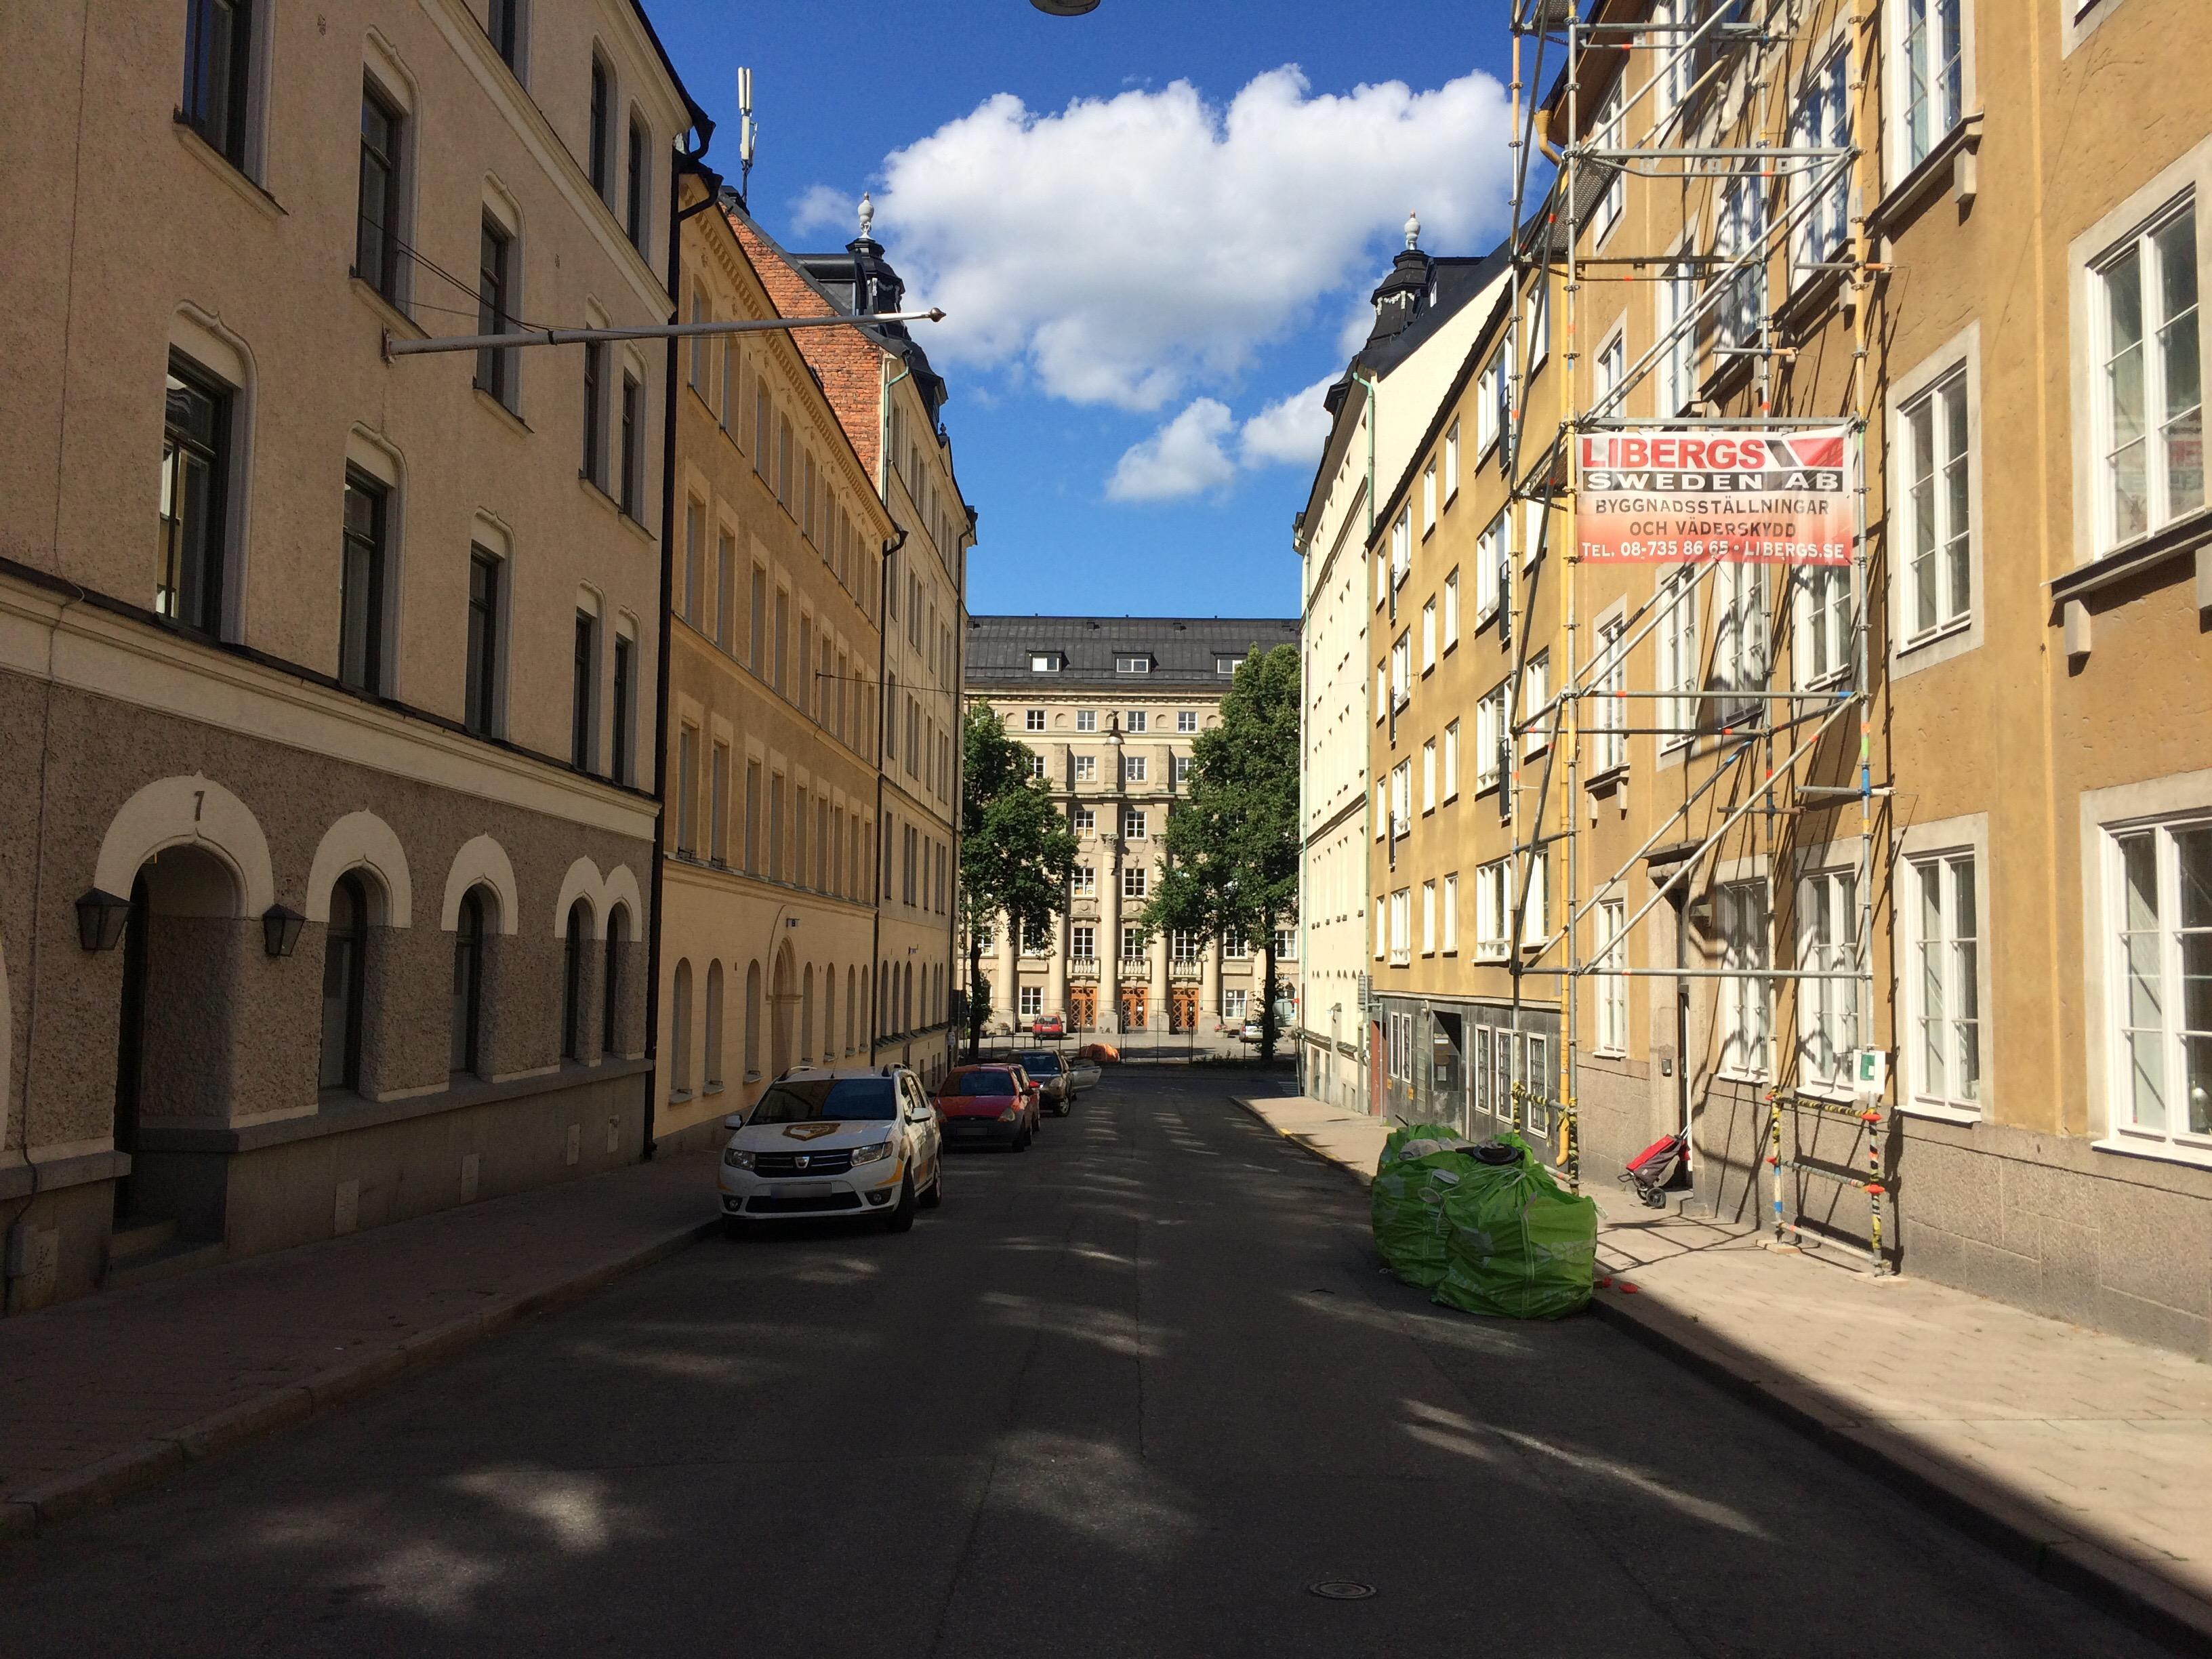vinyl banner: (1566, 403, 1869, 599)
